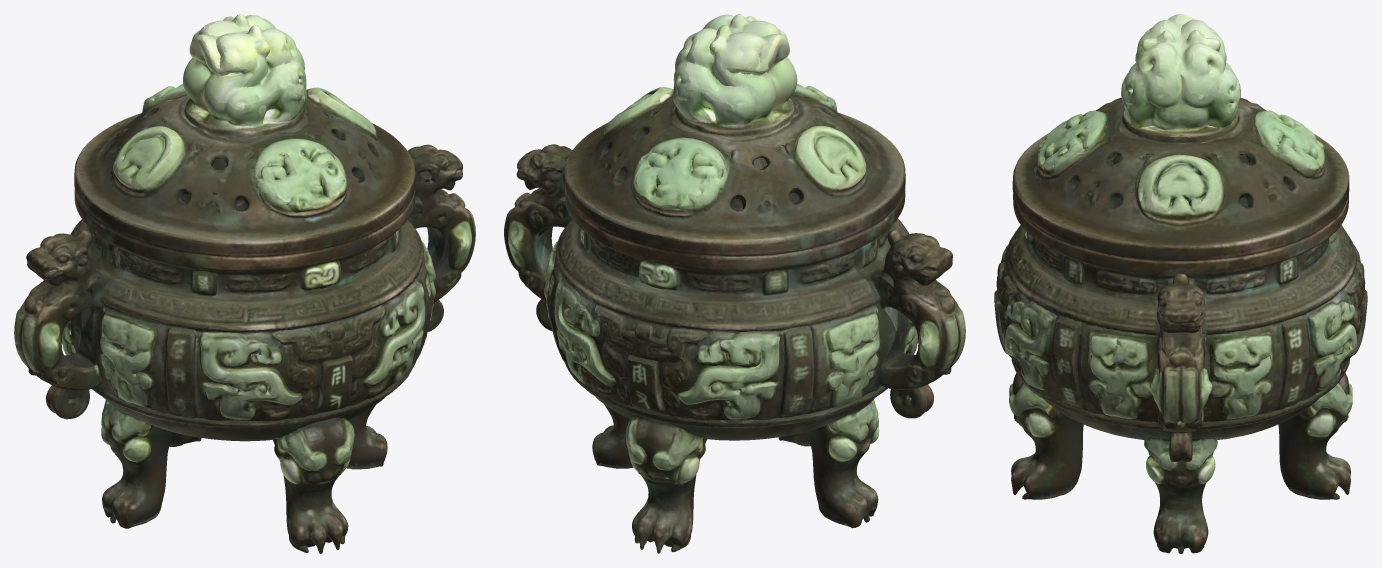
The model's file is censer.glb.
The picture shows the model from 3 angles, left to right: view 1: azimuth 30°, elevation 25°; view 2: azimuth 150°, elevation 25°; view 3: azimuth 270°, elevation 25°; orthographic projection.
Parts seen in each view (by area): view 1: geometry_0; view 2: geometry_0; view 3: geometry_0.
Part boxes in pixels (x1=…): geometry_0: x1=14, y1=14, x2=475, y2=553; geometry_0: x1=504, y1=14, x2=965, y2=553; geometry_0: x1=994, y1=14, x2=1367, y2=553.
Bounding box in the file's own units: 0.3814 × 0.38 × 0.278.
1 material, 1 textured.
